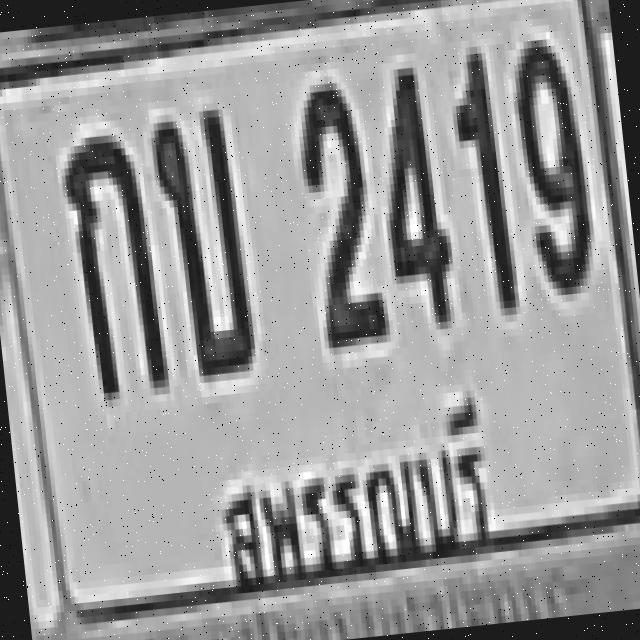1: (439, 36, 532, 355)
10GorGai: (36, 109, 182, 438)
2: (277, 66, 401, 377)
35BorBaiMai: (142, 97, 280, 413)
4: (367, 47, 472, 356)
9: (502, 27, 614, 328)
SuphanBuri: (201, 392, 514, 608)
